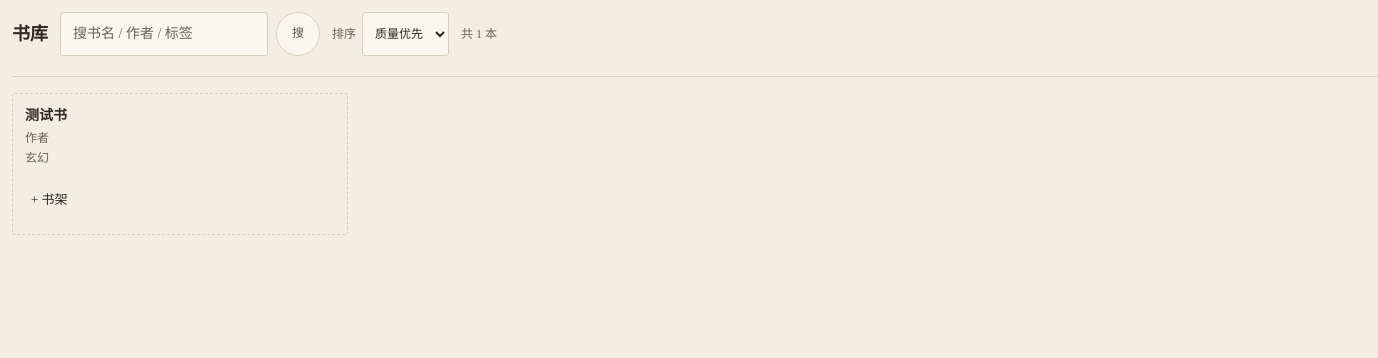
LibraryTab 退避中的 pending 文案（dlsearch-1026） › 首次入队的 pending（attemptCount 缺省 0）仍显示「排队中」
Click the button with aria-label "查看测试书详情". click: (46, 116)
box: [13,94,346,178]
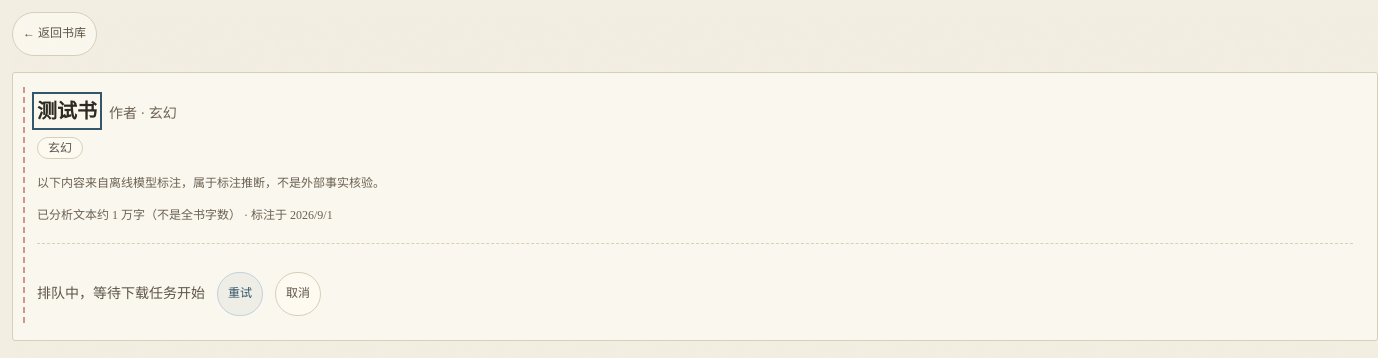
Now the text "排队中，等待下载任务开始" is shown, box [37,284,205,304]
